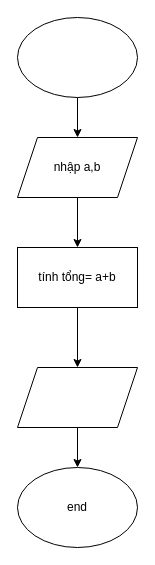
The diagram is 155 pixels wide and 565 high, and some of its shapes have lost their labels. Each missing label, with the centre of its shape:
"hiển thị tổng" belongs at [77,397].
"Start" belongs at [77,57].
